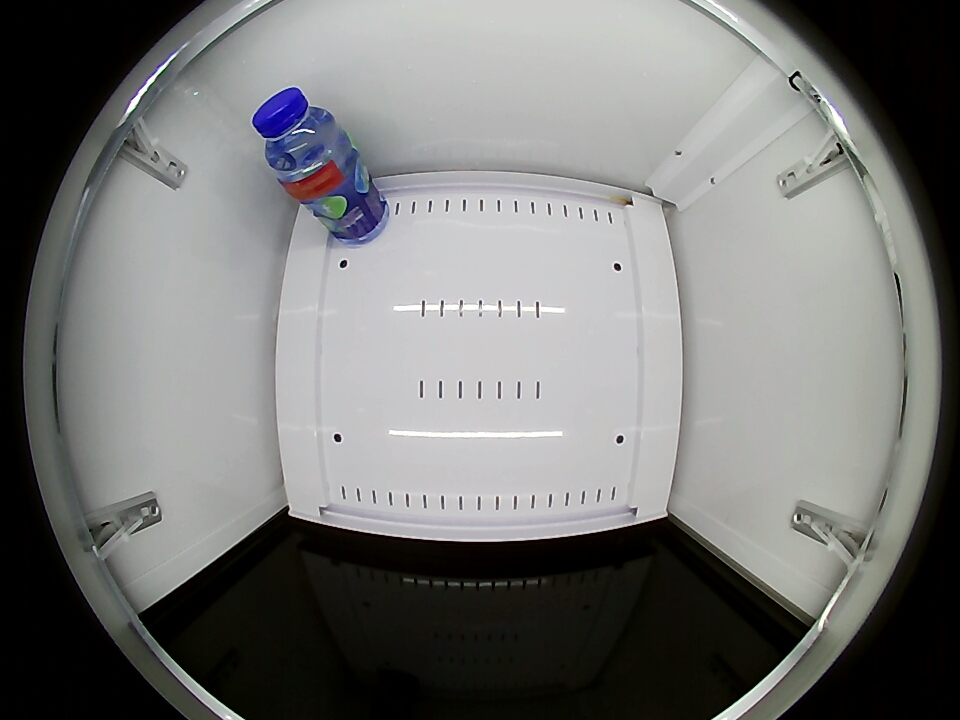maidong: (252, 87, 346, 181)
